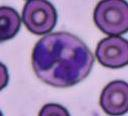N: (32, 33, 94, 86)
